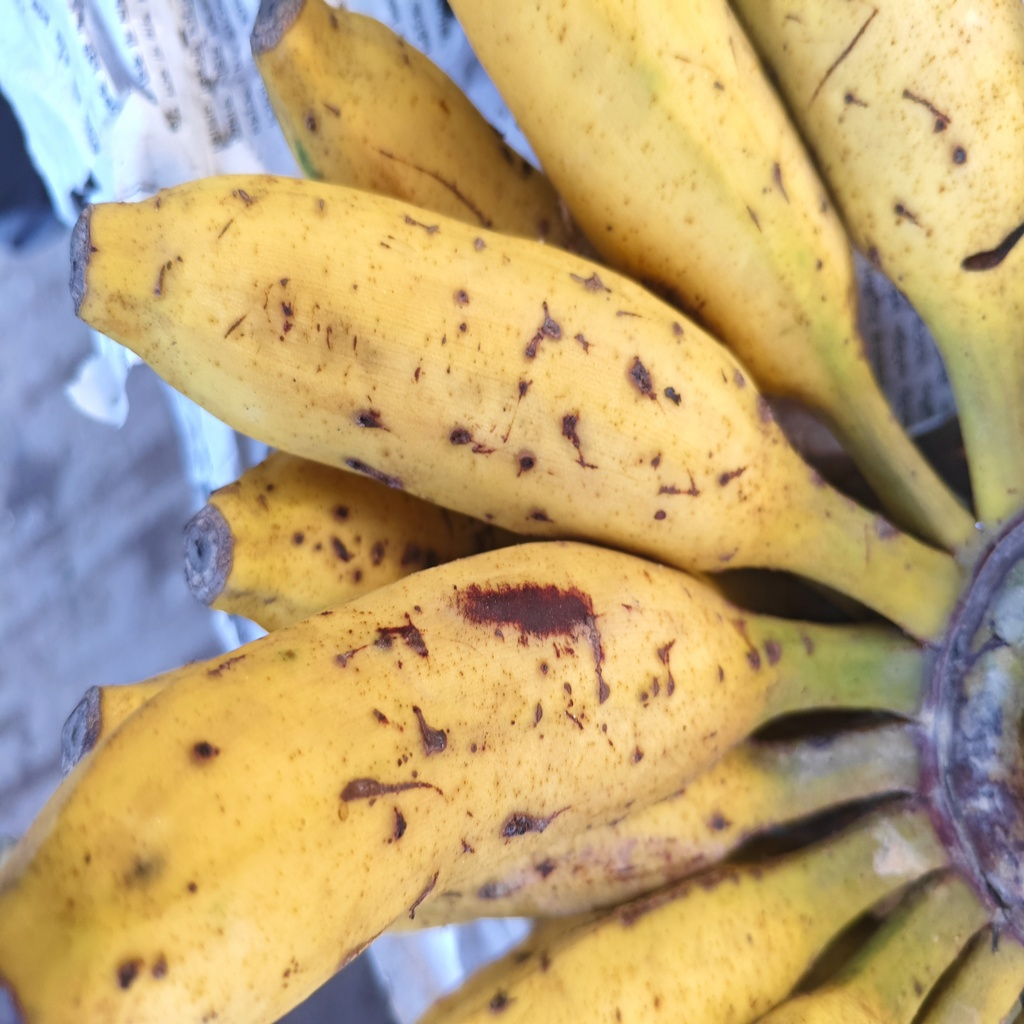unhealthy: (11, 537, 759, 1024), (71, 173, 781, 569)
